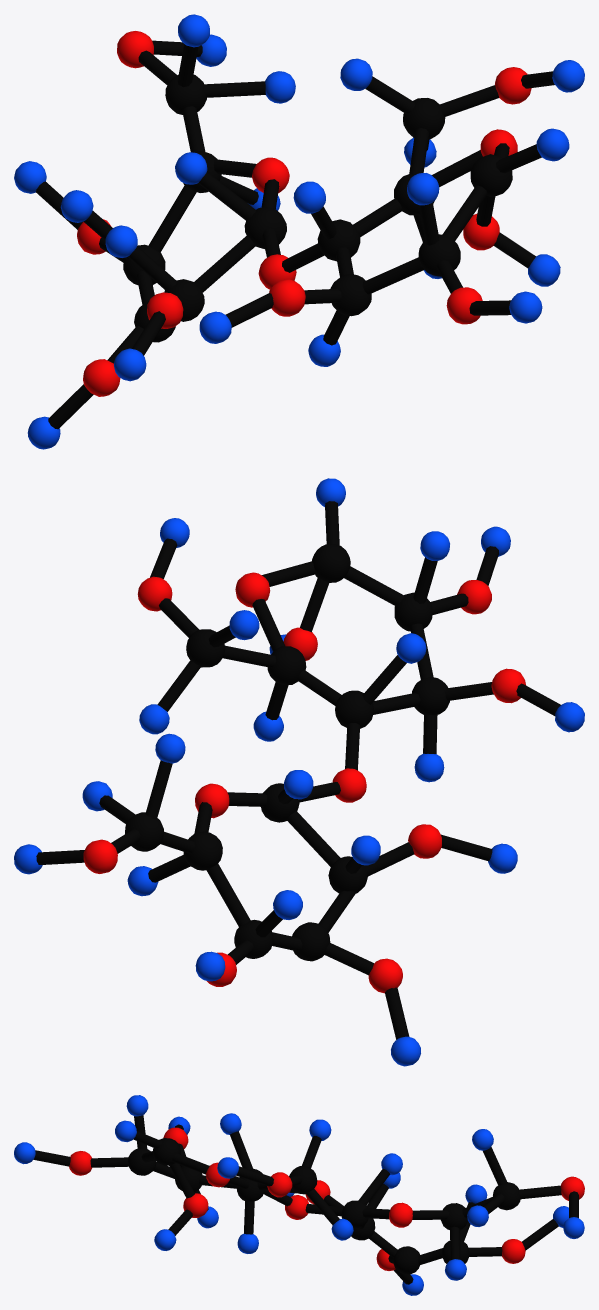
Rendered from maltose.glb.
3 views of the same model, one above another, from view 1: azimuth 30°, elevation 25°; view 2: azimuth 150°, elevation 25°; view 3: azimuth 270°, elevation 25° (orthographic). The views are drawn at different scales.
Visible parts, largest first — view 1: polySurface94; view 2: polySurface94; view 3: polySurface94.
Boxes of the visible parts, x1,y1,x2,y2 form: polySurface94: [14, 14, 584, 449]; polySurface94: [14, 478, 584, 1066]; polySurface94: [14, 1095, 584, 1295].
Size of the model in its own units: 0.1336 by 0.1211 by 0.2321.
1 material, 1 textured.
